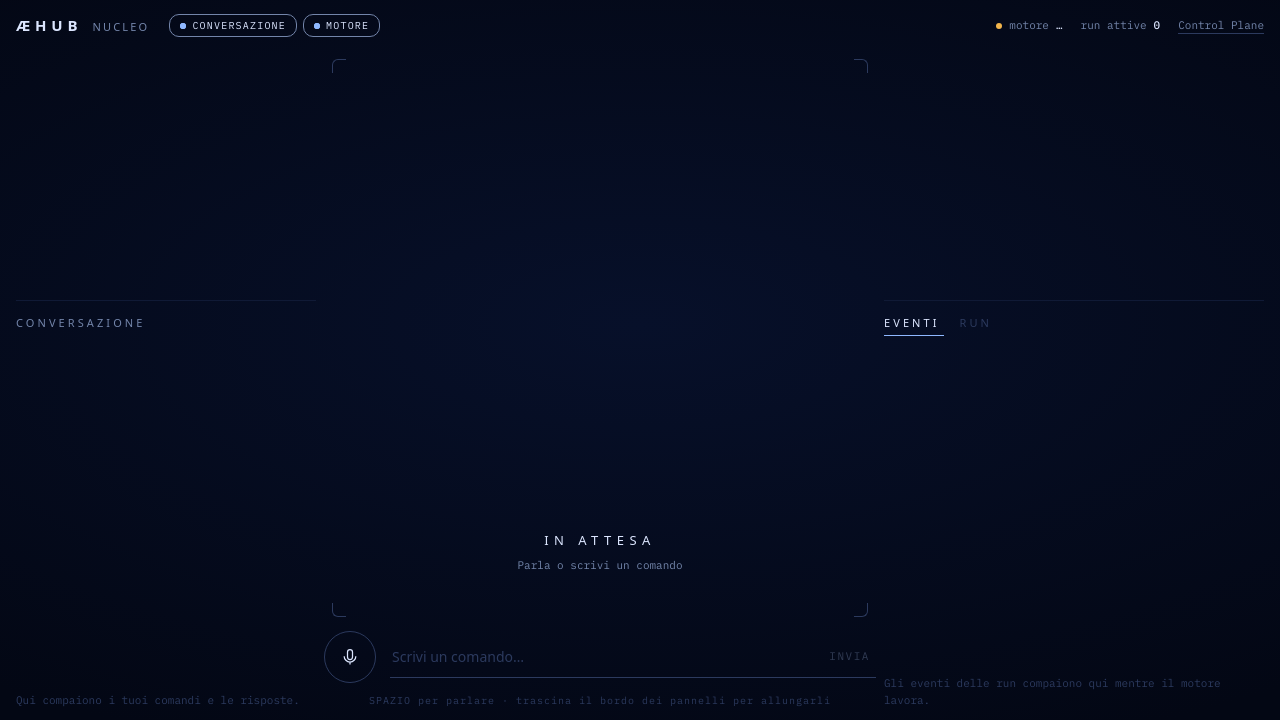
Test case: Nucleo › sends a typed command and shows the answer
Type "Accendi la luce" into the field labelled "comando" at (607, 656), box [390,636,823,677]
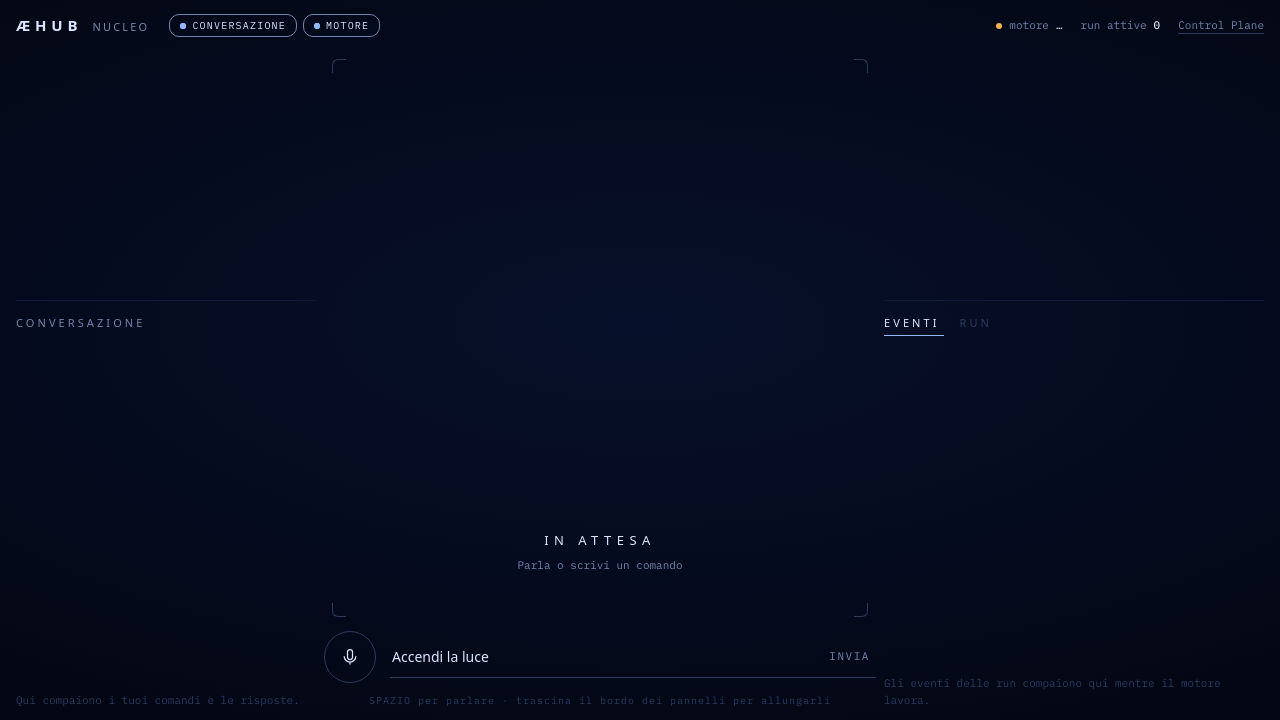
Click the button "INVIA" at (850, 656), box [823,636,876,677]
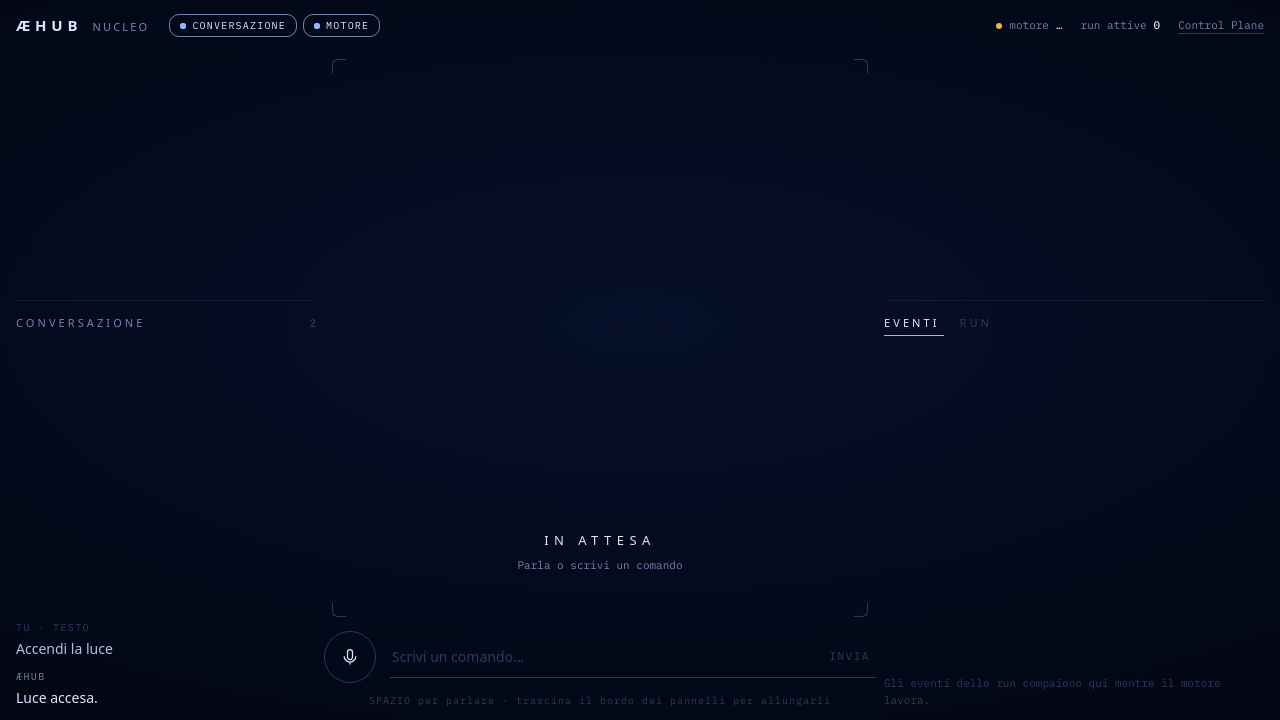
Result: the text "Luce accesa." is shown at [16,688,98,707]
Result: the text "Accendi la luce" is shown at [16,639,113,658]
